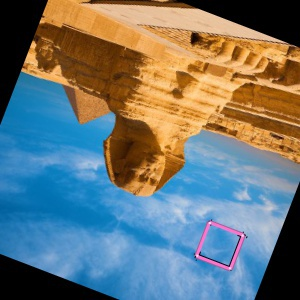square: (193, 218, 247, 273)
